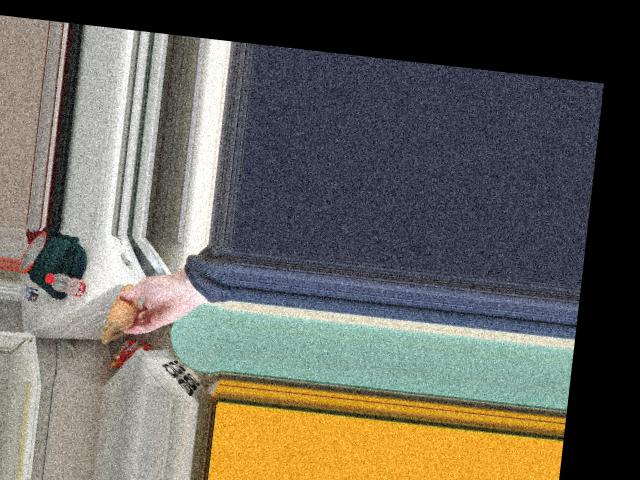sweet_potato: (107, 288, 138, 330)
